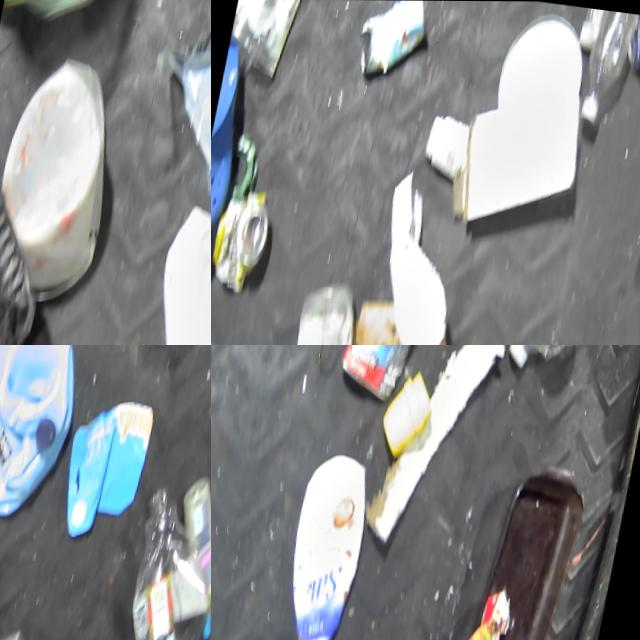can: (211, 179, 281, 298), (287, 277, 374, 345), (338, 345, 432, 404)
milk_jug: (134, 202, 211, 345)
non_white_jug: (0, 345, 99, 530)
plastic_bottle: (122, 481, 211, 640), (574, 8, 640, 131)
